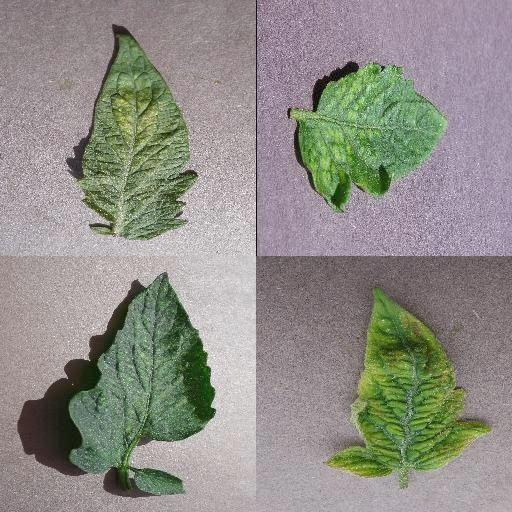Mosaic Virus: (296, 62, 450, 212)
Spider Mites: (69, 272, 217, 474), (78, 31, 200, 241)
Yellow Leaf Curl Virus: (323, 285, 493, 475)
